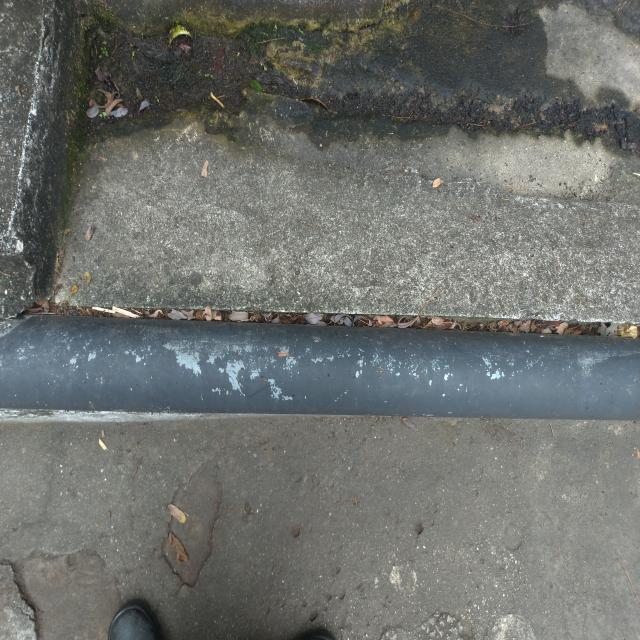gas: (3, 317, 637, 416)
